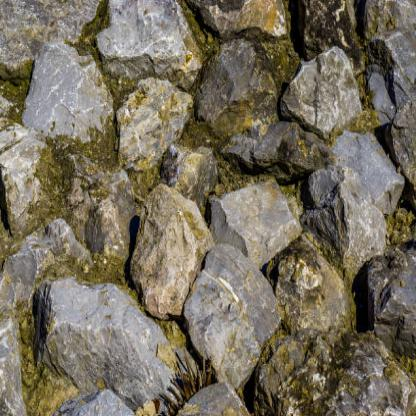Sedimentary_Limestone: (38, 267, 169, 399), (311, 122, 405, 263), (138, 166, 210, 326), (266, 237, 361, 342), (284, 36, 378, 140), (23, 43, 114, 150), (116, 77, 203, 180)
